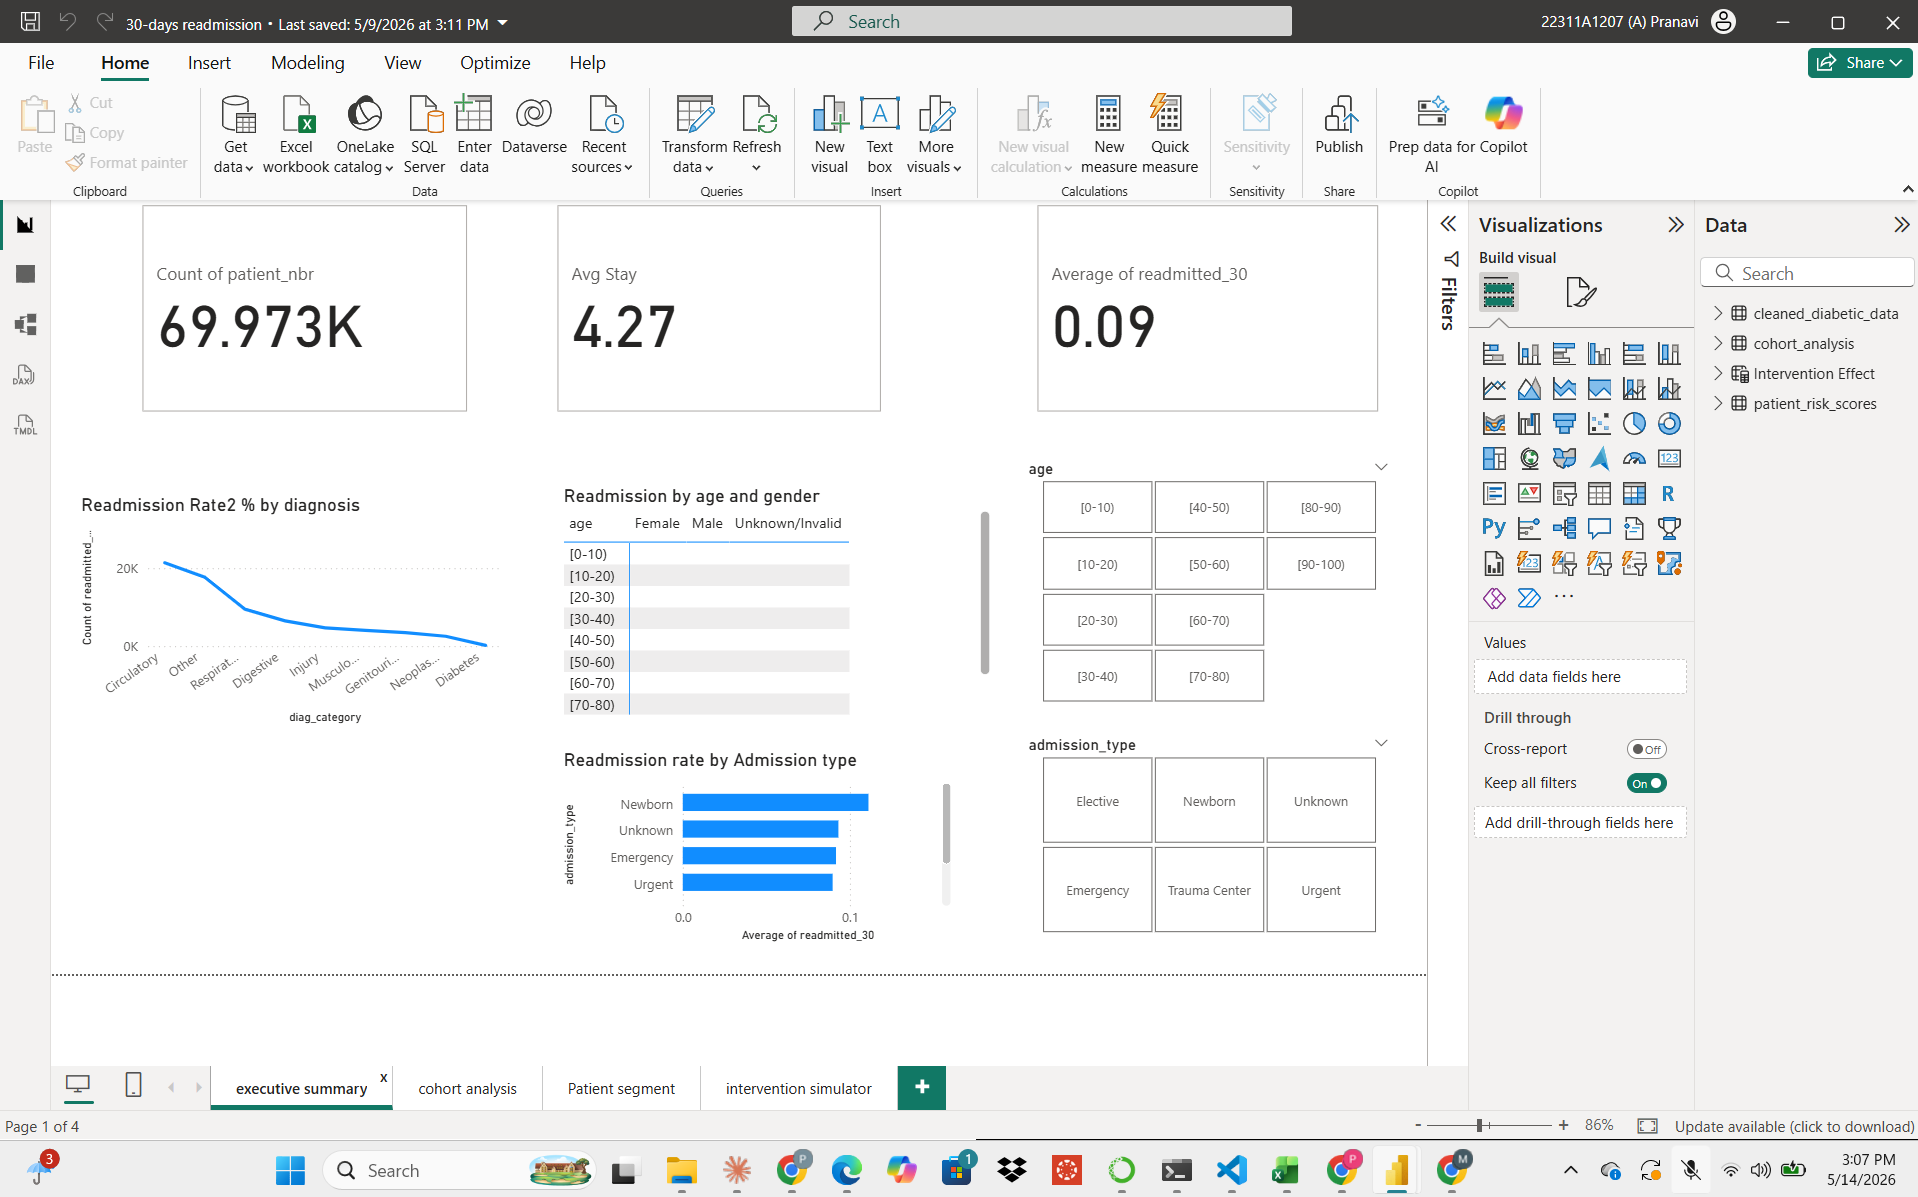

The page's visual inventory and layout, read from the dashboard file:
{"tool":"powerbi","page":{"name":"executive summary","canvas":[1280,720],"ordinal":0},"visuals":[{"type":"cardVisual","fields":{"Data":["CountNonNull(cleaned_diabetic_data.patient_nbr)"]},"box":[80,0,312.5,202.5],"z":0},{"type":"cardVisual","fields":{"Data":["Avg(cleaned_diabetic_data.readmitted_30)"]},"box":[912.5,0,327.5,202.5],"z":1000},{"type":"clusteredBarChart","title":"Readmission rate by Admission  type","fields":{"Category":["cleaned_diabetic_data.admission_type"],"Y":["Avg(cleaned_diabetic_data.readmitted_30)"]},"box":[472.5,510,370,185],"z":2000},{"type":"pivotTable","title":"Readmission by age and gender","fields":{"Rows":["cleaned_diabetic_data.age"],"Columns":["cleaned_diabetic_data.gender"]},"box":[472.5,265,406.2,218.8],"z":3000},{"type":"slicer","fields":{"Values":["cleaned_diabetic_data.admission_type"]},"box":[896.2,492.5,360,195],"z":4000},{"type":"slicer","fields":{"Values":["cleaned_diabetic_data.age"]},"box":[896.2,236.2,360,237.5],"z":5000},{"type":"cardVisual","fields":{"Data":["Intervention Effect.Avg Stay"]},"box":[466.2,0,311.2,202.5],"z":6000},{"type":"lineChart","title":"Readmission Rate2 % by diagnosis","fields":{"Category":["cleaned_diabetic_data.diag_category"],"Y":["CountNonNull(cleaned_diabetic_data.readmitted_30)"]},"box":[23.8,273.8,401.2,218.8],"z":7000},{"type":"textbox","box":[24,523,389,150],"z":8000}]}

Visuals, with their boxes on the page's 1280x720 design canvas (x1, y1, x2, y2). These are canvas units, not pixel positions in the 1918x1197 screenshot, which may show the page scaled, cropped or inside an application window:
cardVisual - CountNonNull(cleaned_diabetic_data.patient_nbr): 80:0:392:202
cardVisual - Avg(cleaned_diabetic_data.readmitted_30): 912:0:1240:202
"Readmission rate by Admission  type" clusteredBarChart: 472:510:842:695
"Readmission by age and gender" pivotTable: 472:265:879:484
slicer - cleaned_diabetic_data.admission_type: 896:492:1256:688
slicer - cleaned_diabetic_data.age: 896:236:1256:474
cardVisual - Intervention Effect.Avg Stay: 466:0:777:202
"Readmission Rate2 % by diagnosis" lineChart: 24:274:425:493
textbox: 24:523:413:673
